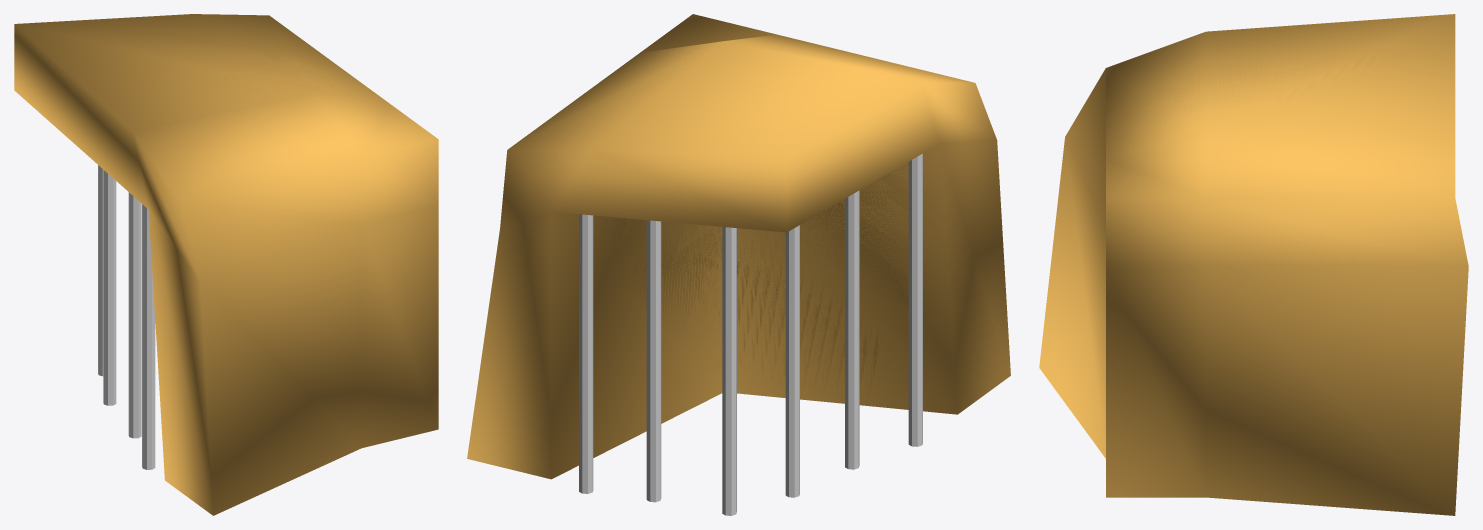
The model's file is Penjara pantai (1).fbx.
3 views of the same model, side by side, from view 1: azimuth 30°, elevation 25°; view 2: azimuth 150°, elevation 25°; view 3: azimuth 270°, elevation 25° (orthographic). The views are drawn at different scales.
Visible parts, largest first — view 1: Cube.085, Cylinder.020; view 2: Cube.085, Cylinder.020; view 3: Cube.085.
Boxes of the visible parts, x1=… form: Cube.085: x1=14, y1=14, x2=438, y2=515; Cylinder.020: x1=98, y1=165, x2=155, y2=469; Cube.085: x1=467, y1=14, x2=1010, y2=479; Cylinder.020: x1=579, y1=153, x2=922, y2=515; Cube.085: x1=1039, y1=14, x2=1468, y2=515.
Size of the model in its own units: 700 by 804 by 858.
1 material, 1 textured.
